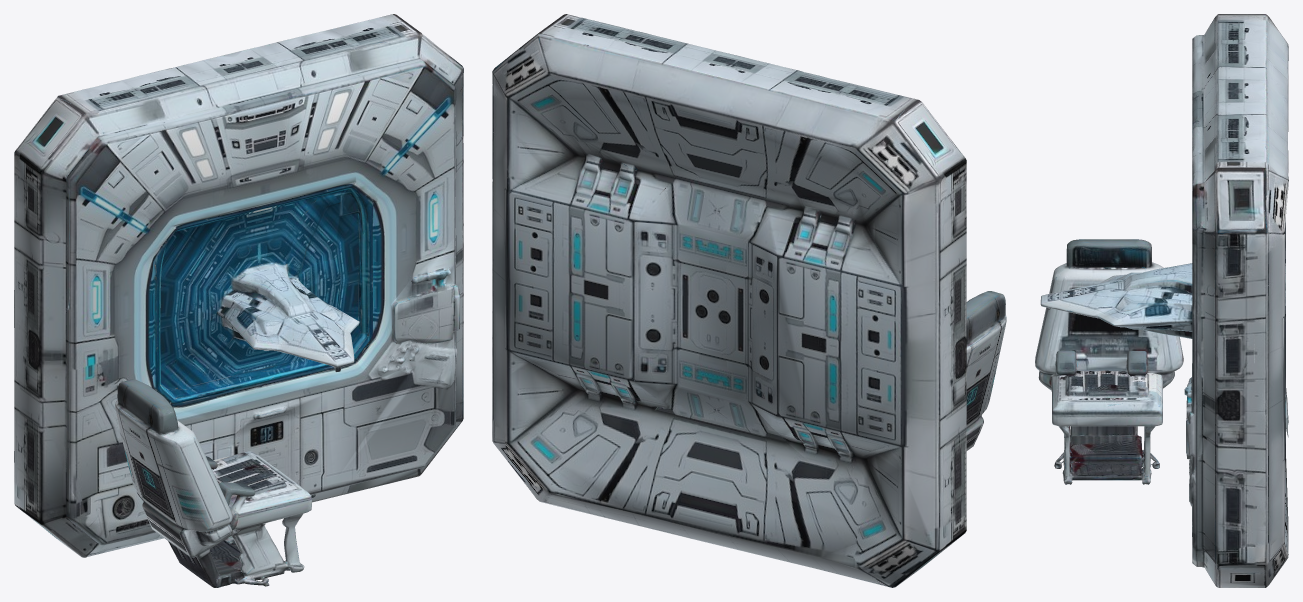
File: station_docking_control.repacked.glb
The picture shows the model from 3 angles, left to right: view 1: azimuth 30°, elevation 25°; view 2: azimuth 150°, elevation 25°; view 3: azimuth 270°, elevation 25°; orthographic projection. The views are drawn at different scales.
Parts seen in each view (by area): view 1: Mesh1.0; view 2: Mesh1.0; view 3: Mesh1.0.
Boxes of the visible parts, x1,y1,x2,y2 form: Mesh1.0: [14, 14, 463, 587]; Mesh1.0: [492, 14, 1006, 587]; Mesh1.0: [1035, 14, 1288, 587].
Size of the model in its own units: 1.91 by 1.91 by 1.05.
Materials: 1 (1 with a texture image).
